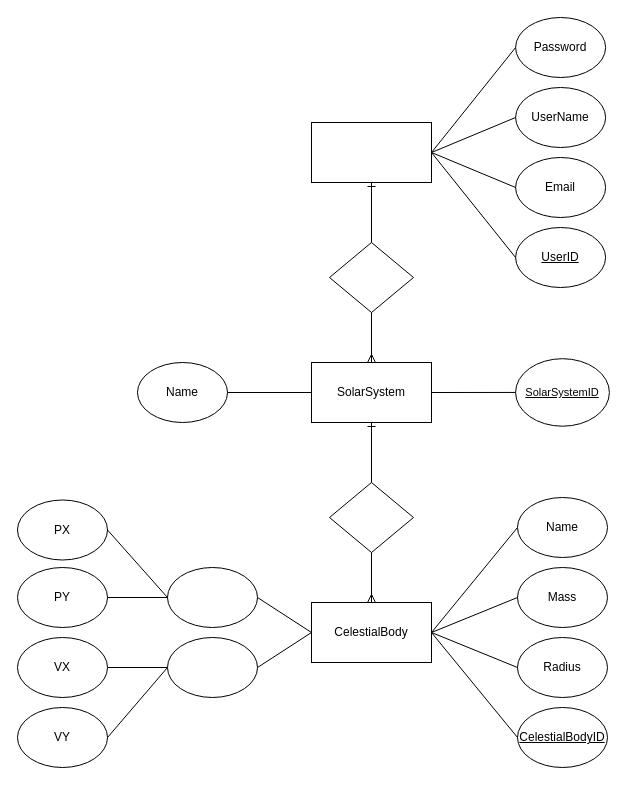
This 627x785 diagram has some shape labels left out. The centre of each missing label's shape, as x and y in pixels:
"Coordinate" goes at [212,597].
"SS_CB" goes at [371,517].
"U_SS" goes at [371,277].
"User" goes at [371,152].
"VelocityVector" goes at [212,667].
